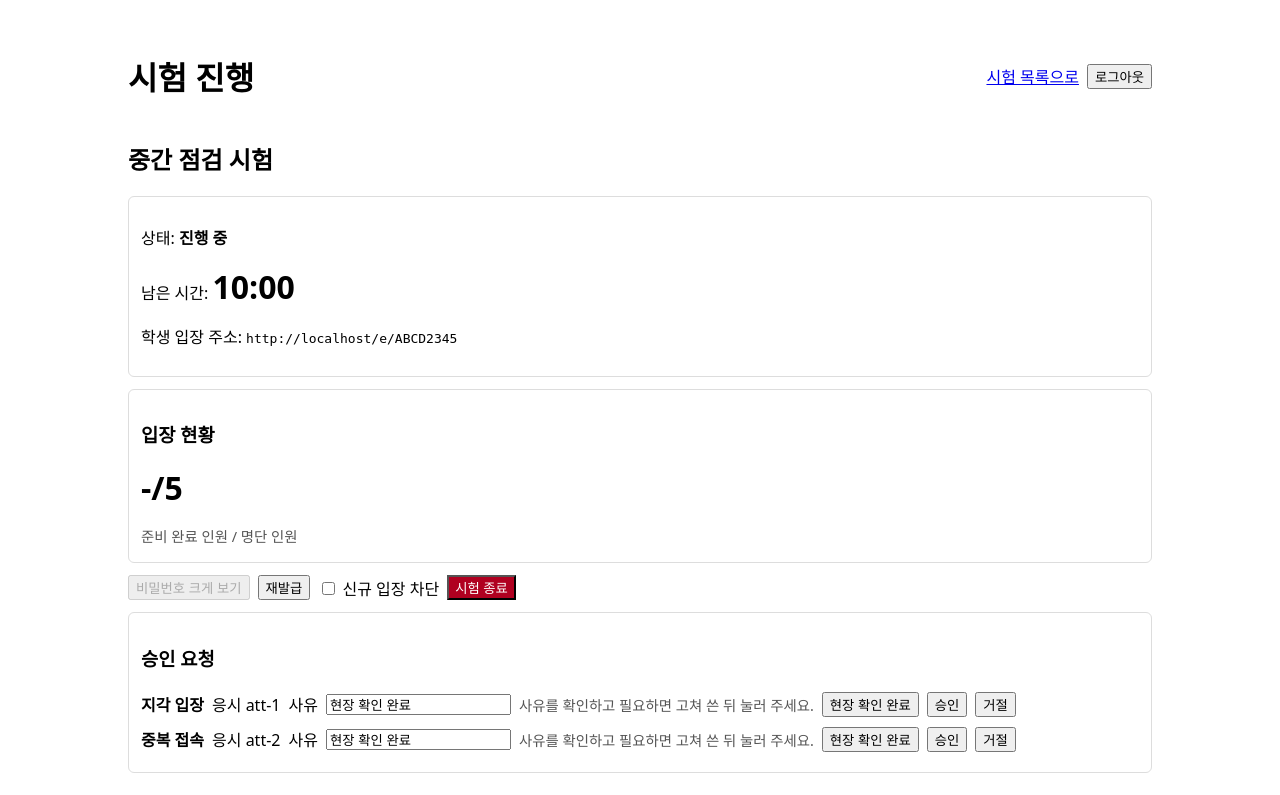
Test: 운영 화면 › 승인 요청: approval:pending으로 목록에 추가되고 [승인]은 사유와 함께 서버로 간다
Later steps or results of the test are not shown.
Check: the button "시험 종료" is shown, box left=447, top=575, right=516, bottom=600
Click the button "승인" in the row of "지각 입장": {"x": 947, "y": 704} left=927, top=692, right=967, bottom=717
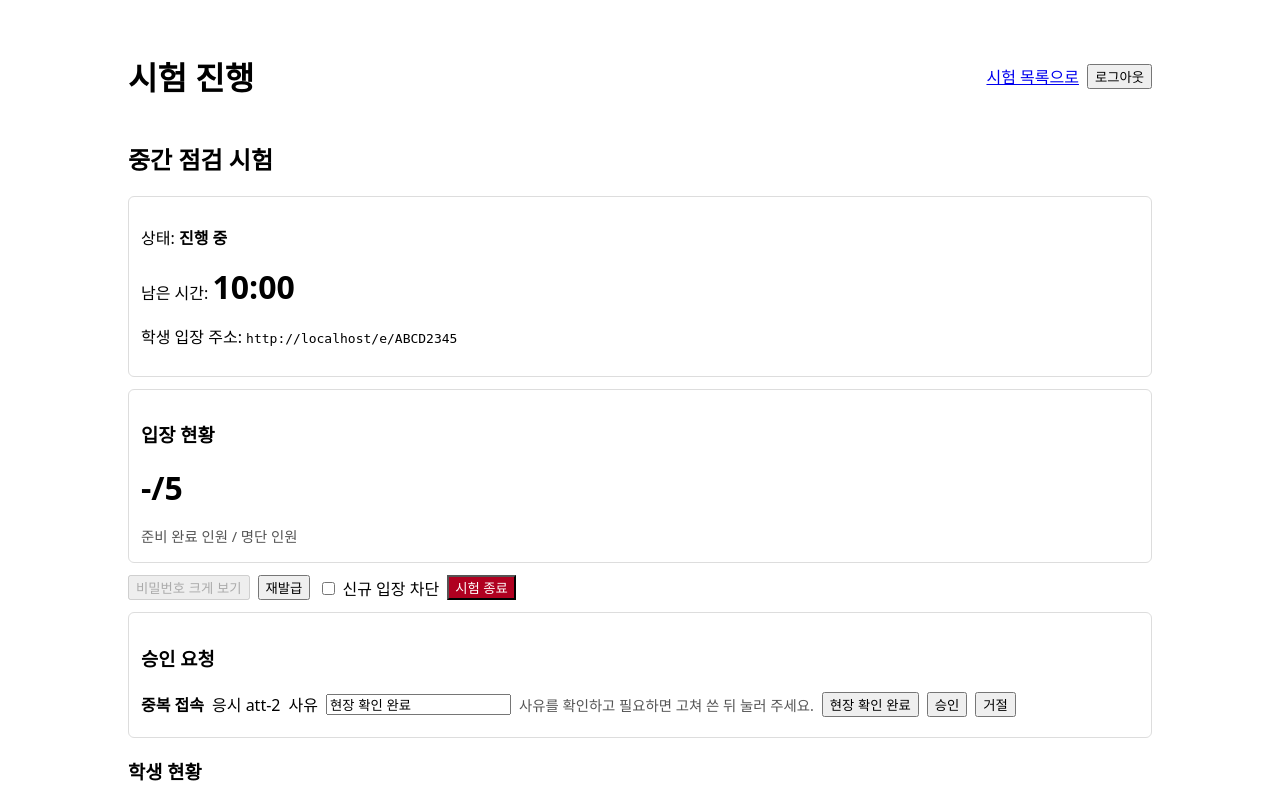
Check: the text "지각 입장" is gone
